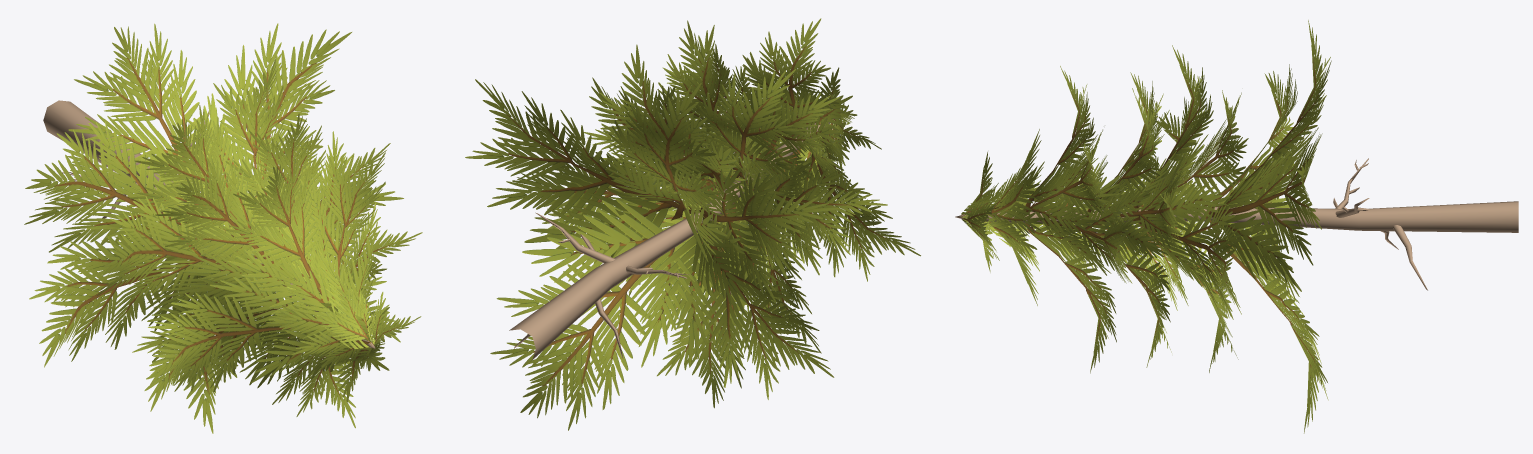
Rendered from pine_01.glb.
3 views of the same model, side by side, from view 1: azimuth 30°, elevation 25°; view 2: azimuth 150°, elevation 25°; view 3: azimuth 270°, elevation 25° (orthographic). The views are drawn at different scales.
Parts seen in each view (by area): view 1: PineTree_1; view 2: PineTree_1; view 3: PineTree_1.
Part boxes in pixels (x1=…): PineTree_1: x1=24, y1=23, x2=422, y2=433; PineTree_1: x1=465, y1=18, x2=920, y2=430; PineTree_1: x1=955, y1=20, x2=1518, y2=433.
Size of the model in its own units: 2.98 by 3.03 by 4.5.
Materials: 2 (1 with a texture image).
